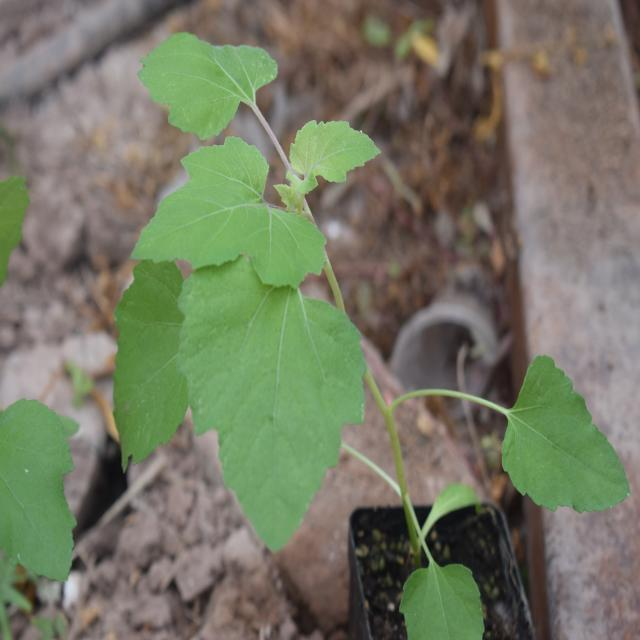cocklebur: (113, 33, 432, 528)
